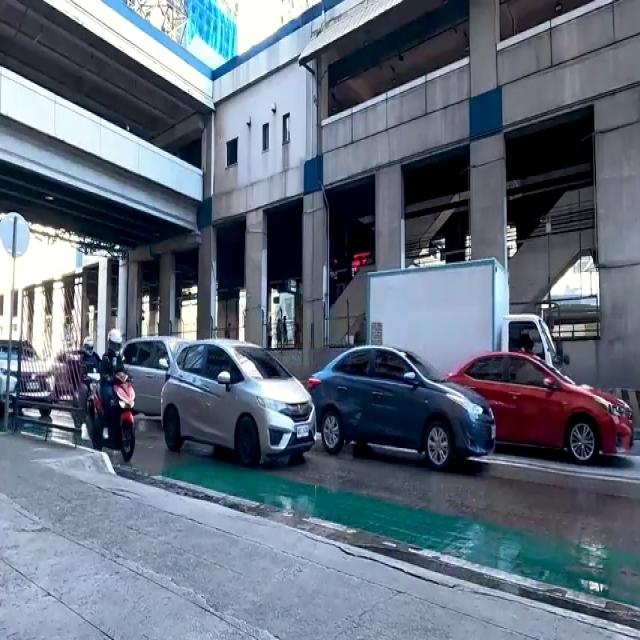car: (452, 349, 636, 471), (321, 351, 487, 468), (173, 341, 305, 484), (0, 343, 57, 421)
motorcycle: (94, 334, 139, 449), (76, 334, 96, 425)
truck: (370, 268, 560, 412)
